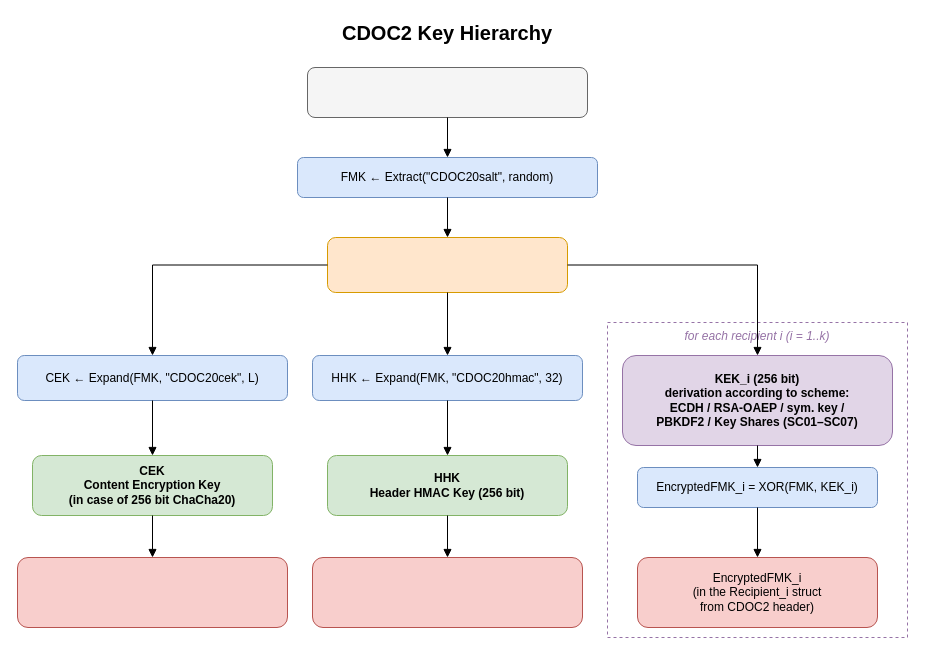
This 925x655 diagram has some shape labels left out. Here are the shapes that lost their labels. From the top down, the centre of each, then its label:
At (447,92): "random ← CSRNG() (≥ 256 bit)".
At (447,264): "FMK File Master Key (256 bit)".
At (152,592): "Payload encryption C = Enc(CEK, M) ChaCha20-Poly1305 (AEAD)".
At (447,592): "Header integrity Checksum = HMAC(HHK, Serialize(Header)) HMAC-SHA-256".
